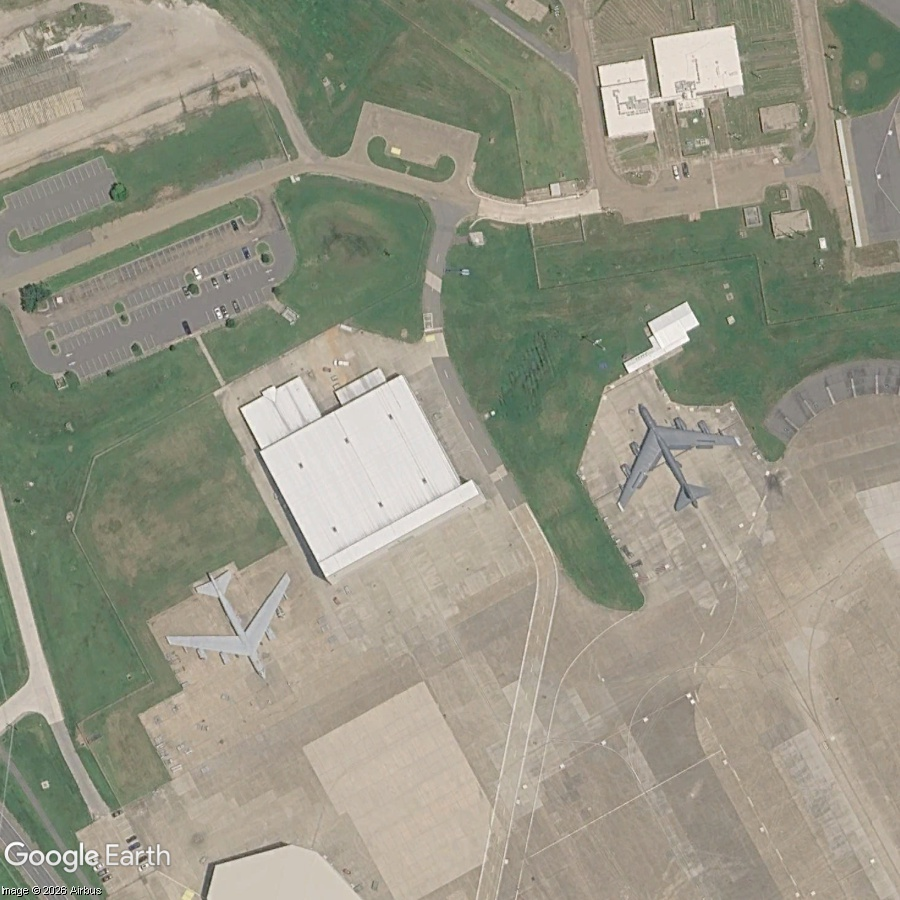Máy bay ném bom: (143, 536, 331, 715), (576, 365, 762, 544)
Nhà/Hầm chứa máy bay: (647, 22, 748, 107)
